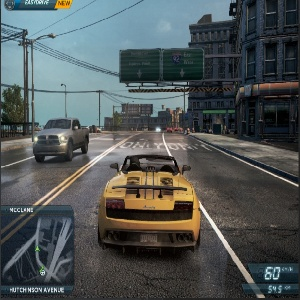building: (231, 4, 300, 138), (188, 15, 244, 135), (104, 102, 189, 131)
garbage: (199, 122, 235, 136)
lamp post: (20, 30, 54, 129), (60, 81, 69, 118)
road sign: (119, 50, 206, 82)
tree: (2, 86, 27, 137), (113, 112, 122, 129)
vehicle: (32, 116, 92, 162)
